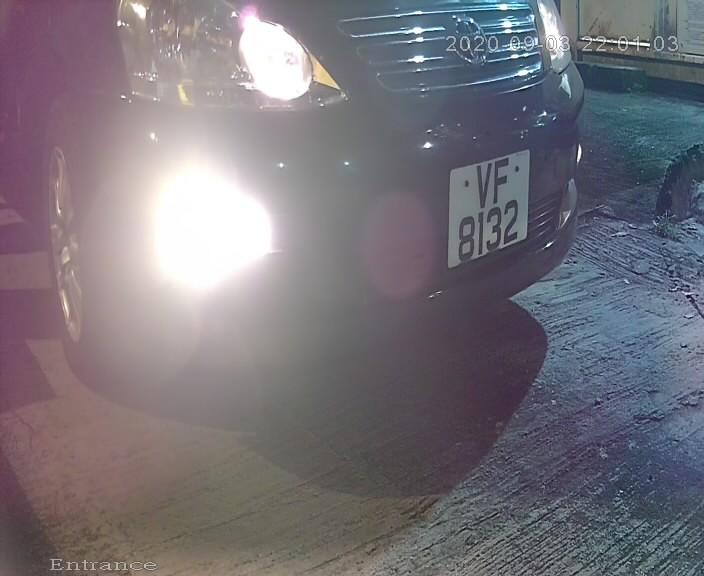License Plate: (441, 137, 532, 278)
